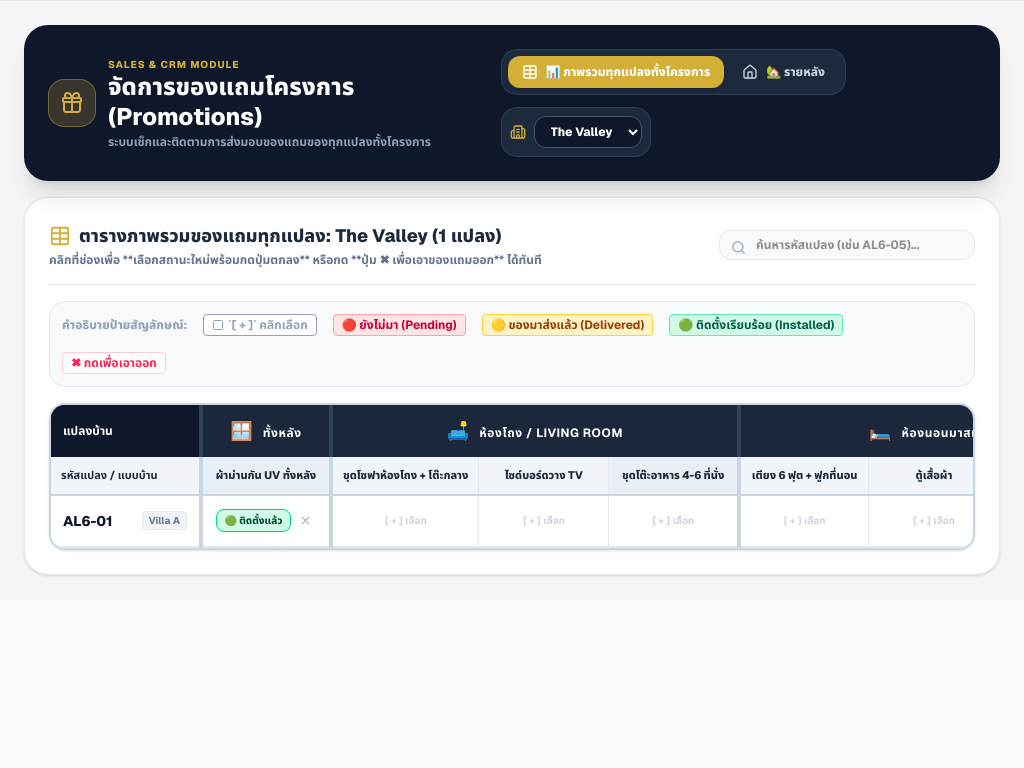
Test: HousePromotionsView - Curtain & Cash Discount Features › Single Plot View: Selected Freebies Summary & Cash Discount Switcher › displays summary of selected items for this house
This screenshot has width=1024, height=768.
Expected: the text "🏡 รายหลัง" is shown, [766,64,825,80]
Click the button "🏡 รายหลัง": (784, 72) [728,56,839,88]
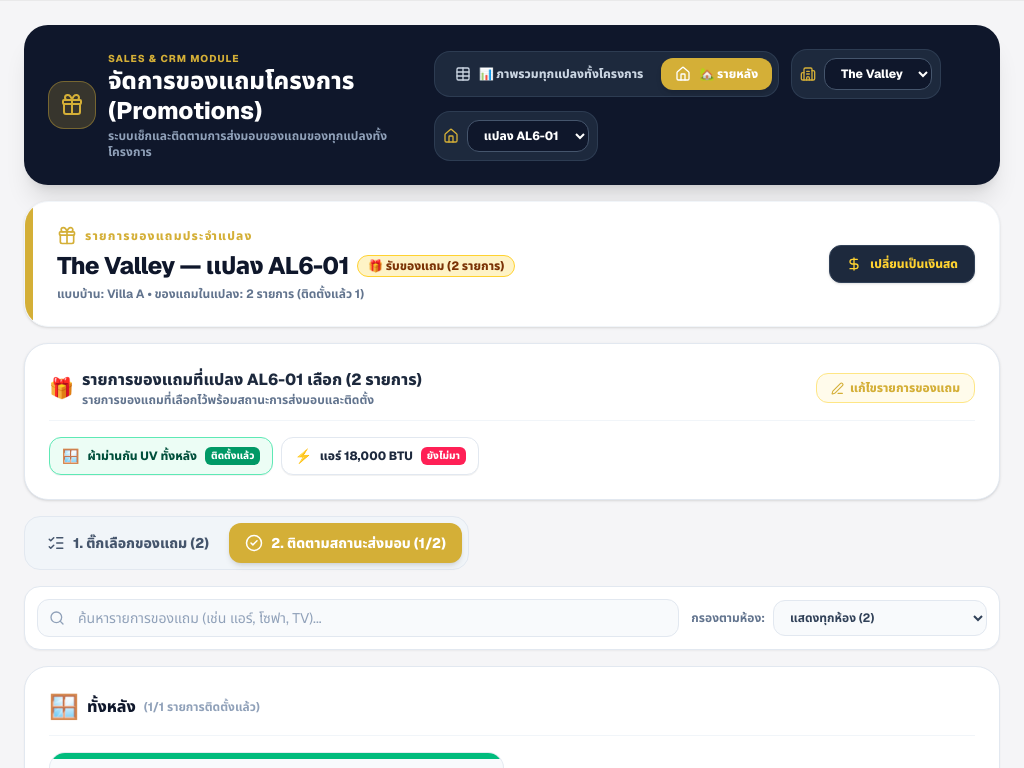
Result: the heading "รายการของแถมที่แปลง AL6-01 เลือก (2 รายการ)" is shown at [82,368,422,392]
Result: the text "ผ้าม่านกัน UV ทั้งหลัง" is shown at [88,448,197,464]
Result: the text "แอร์ 18,000 BTU" is shown at [320,448,413,464]
